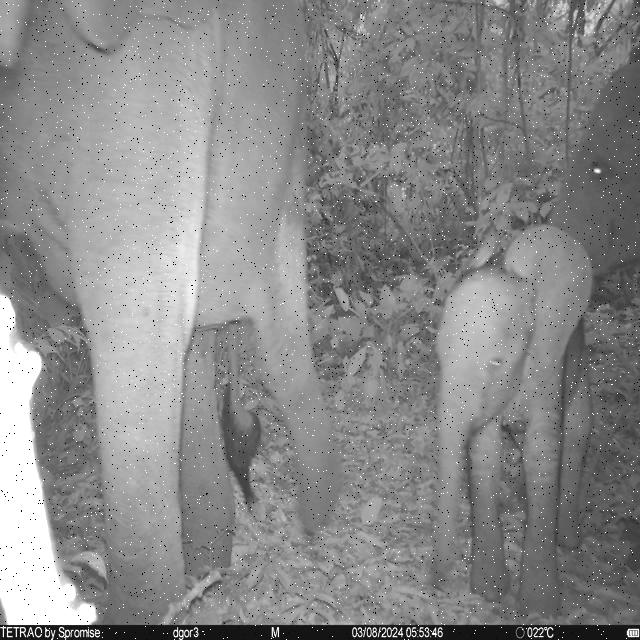calf: (433, 222, 593, 617)
ear: (506, 224, 594, 388), (62, 1, 208, 54)
elephant: (0, 0, 349, 622), (548, 45, 640, 282)
